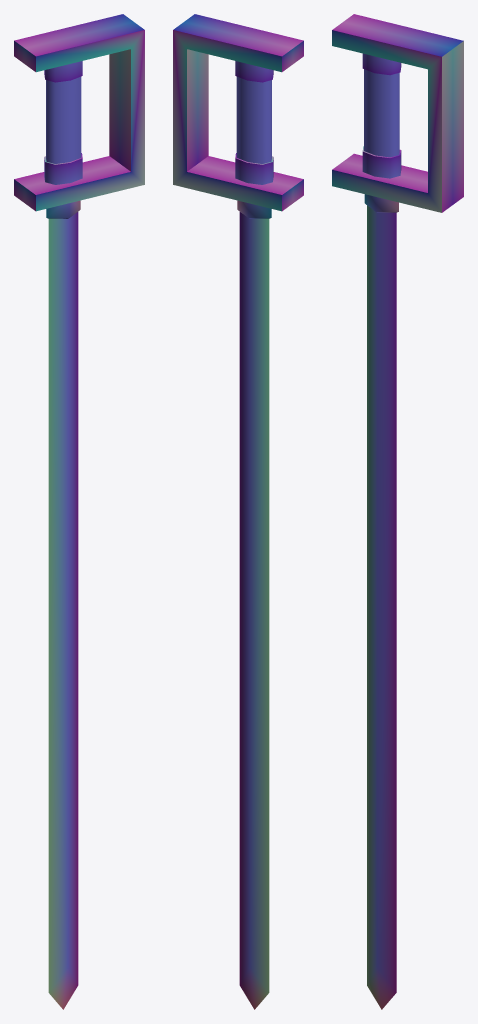
The picture shows the model from 3 angles, left to right: view 1: azimuth 30°, elevation 25°; view 2: azimuth 150°, elevation 25°; view 3: azimuth 330°, elevation 25°; orthographic projection.
Visible parts, largest first — view 1: Weapon; view 2: Weapon; view 3: Weapon.
Boxes of the visible parts, x1=… form: Weapon: x1=14, y1=14, x2=144, y2=1009; Weapon: x1=173, y1=14, x2=303, y2=1009; Weapon: x1=332, y1=14, x2=463, y2=1009.
Bounding box in the file's own units: 13.24 × 4.57 × 113.
